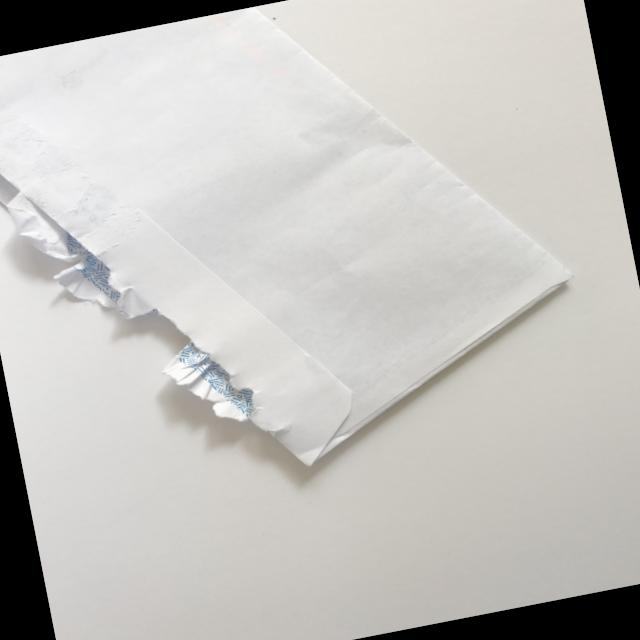Paper: (0, 0, 605, 542)
